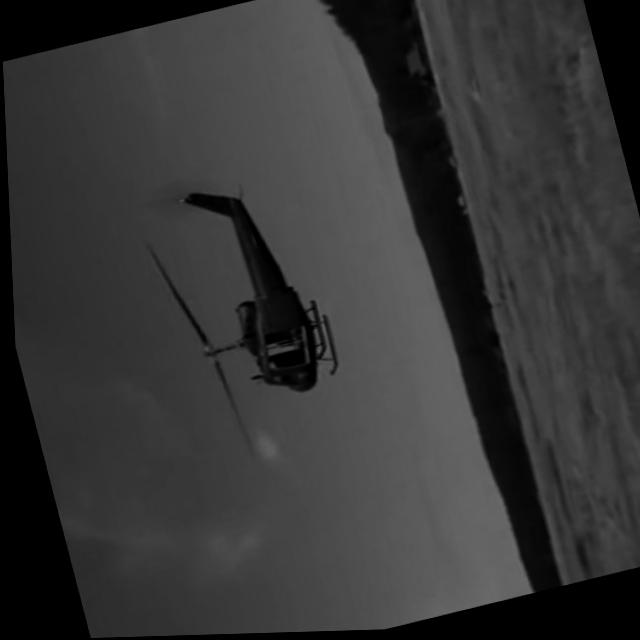helikopter: (130, 150, 360, 445)
